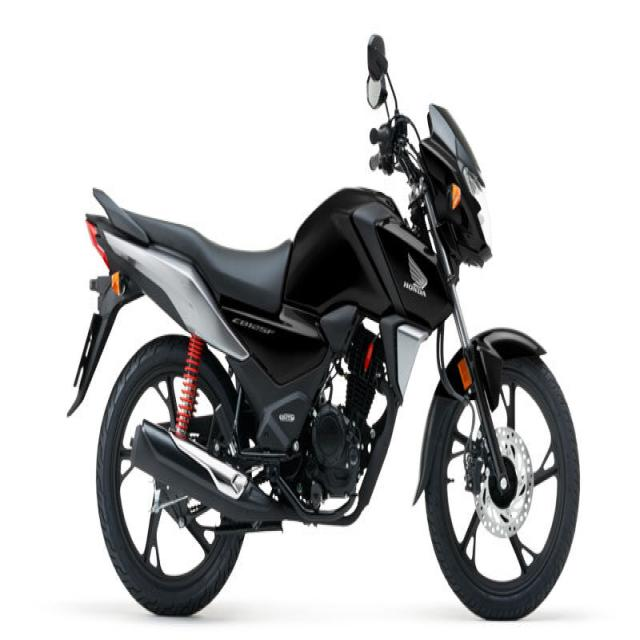Motorcycle: (70, 105, 580, 617)
